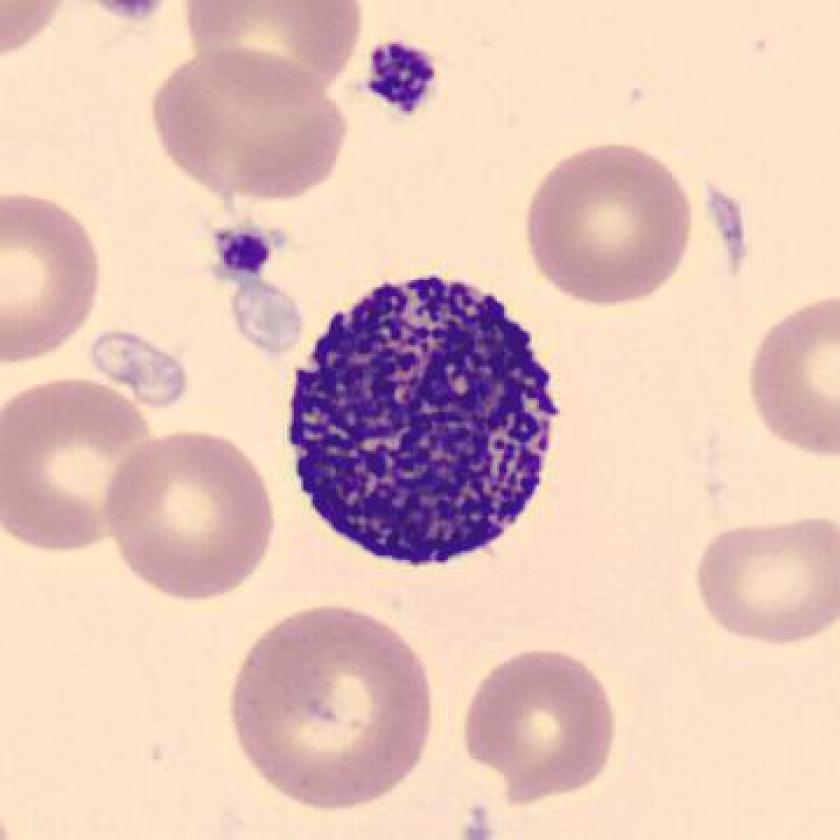basophil: (269, 267, 575, 580)
